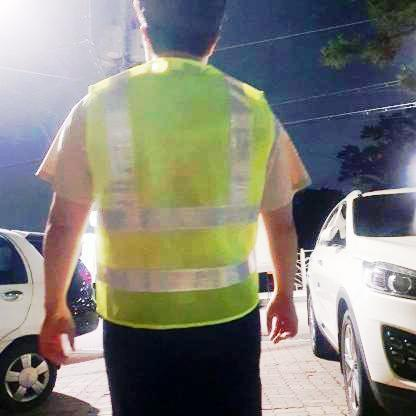no-helmet: (130, 0, 227, 65)
vest: (83, 55, 282, 329)
